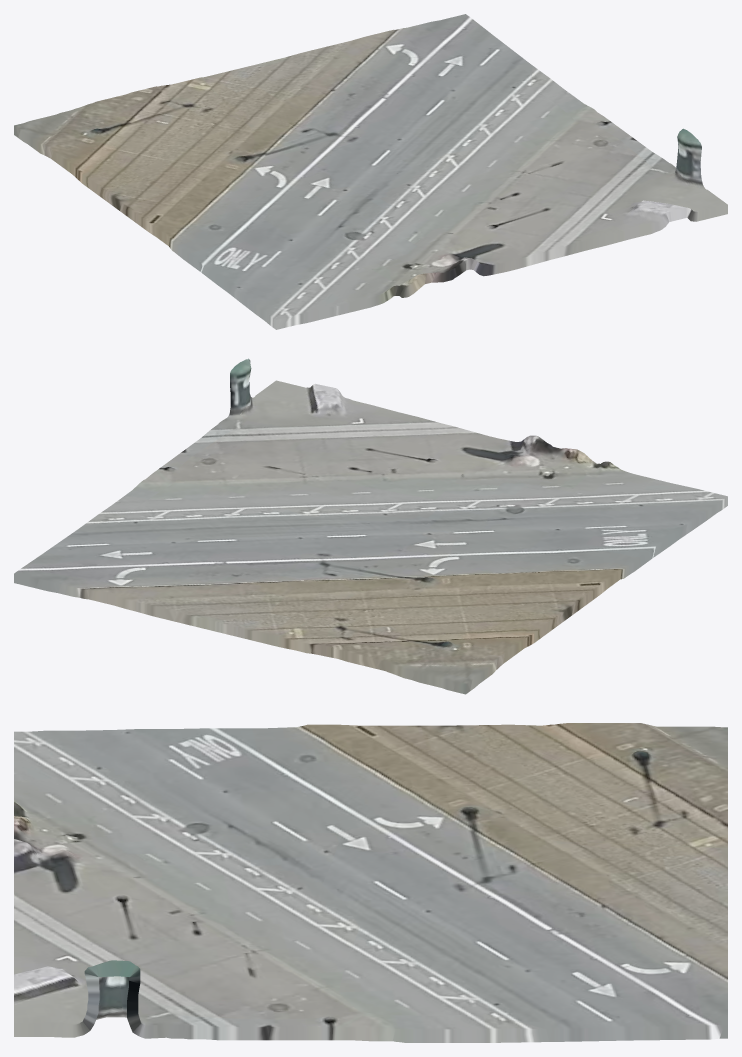
Rendered from z20-167780-405208-h0-yup-uvflip-v3-world.glb.
The picture shows the model from 3 angles, top to bottom: view 1: azimuth 30°, elevation 25°; view 2: azimuth 150°, elevation 25°; view 3: azimuth 270°, elevation 25°; orthographic projection. The views are drawn at different scales.
Size of the model in its own units: 30.16 by 3.84 by 30.32.
Materials: 1 (1 with a texture image).
